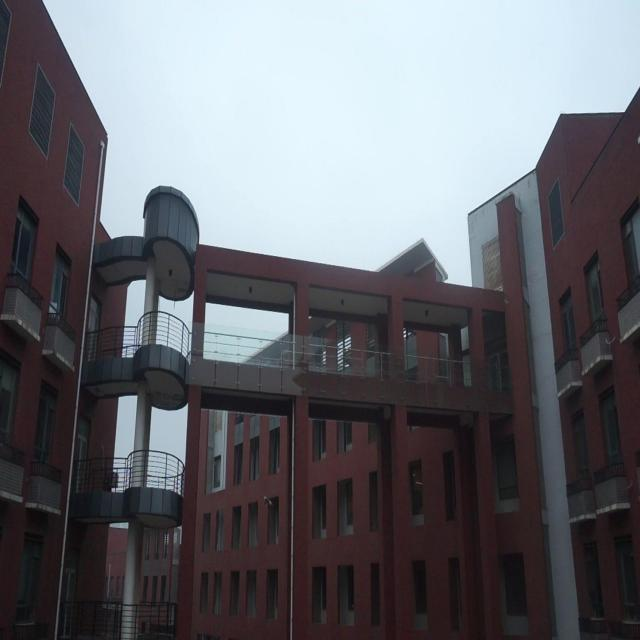UAV: (263, 495, 273, 508)
